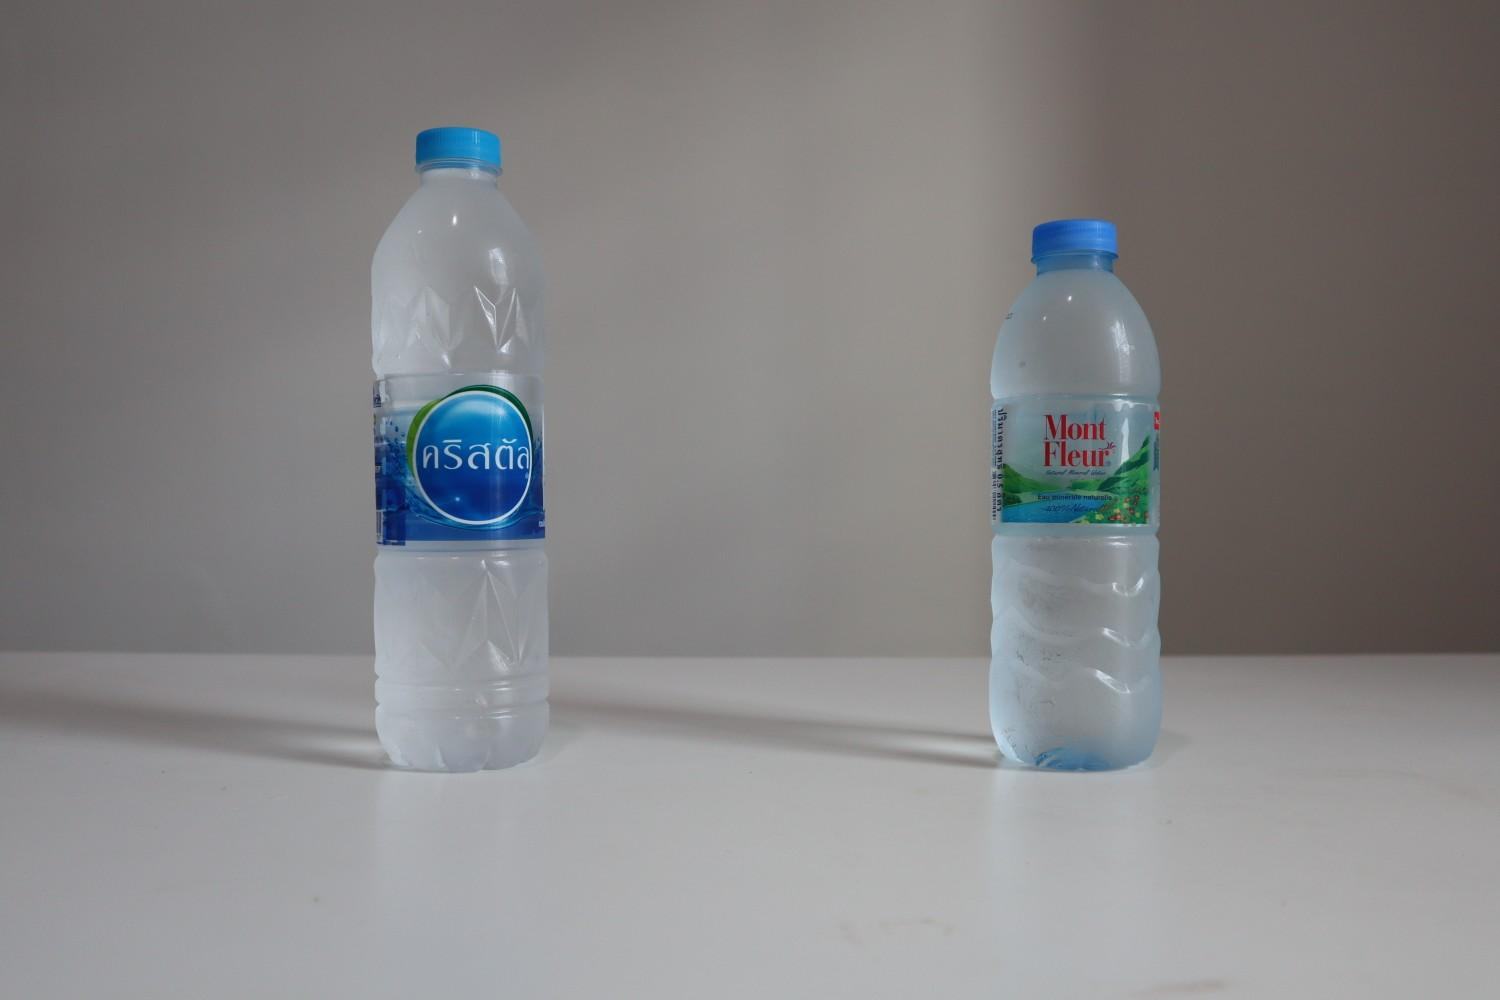bottle: (347, 110, 570, 787), (971, 204, 1182, 780)
